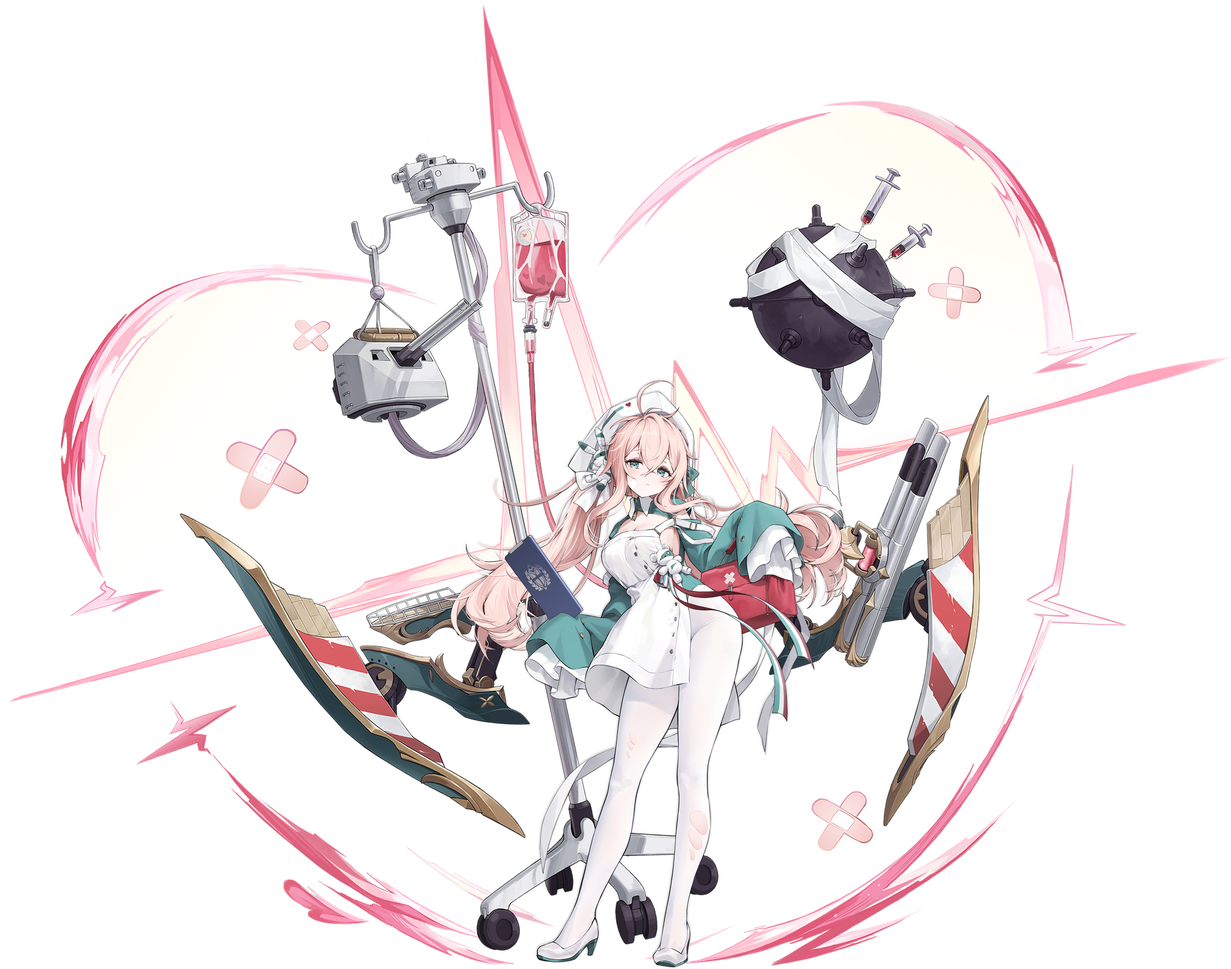person: (460, 361, 857, 968)
